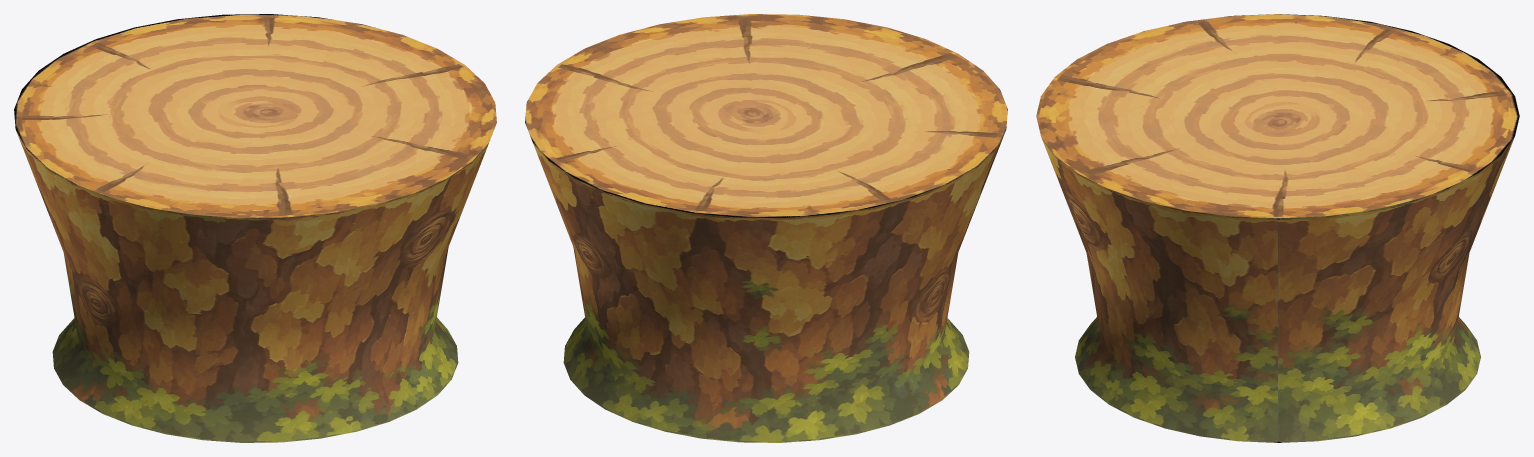
The model's file is stump_p.glb.
The picture shows the model from 3 angles, left to right: view 1: azimuth 30°, elevation 25°; view 2: azimuth 150°, elevation 25°; view 3: azimuth 270°, elevation 25°; orthographic projection.
Parts seen in each view (by area): view 1: stump_p; view 2: stump_p; view 3: stump_p.
Boxes of the visible parts, x1,y1,x2,y2 form: stump_p: (14,14,496,442); stump_p: (525,14,1007,442); stump_p: (1036,14,1519,442).
Size of the model in its own units: 1 by 0.55 by 1.
1 material, 1 textured.
